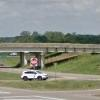Bridge: (4, 30, 93, 58)
